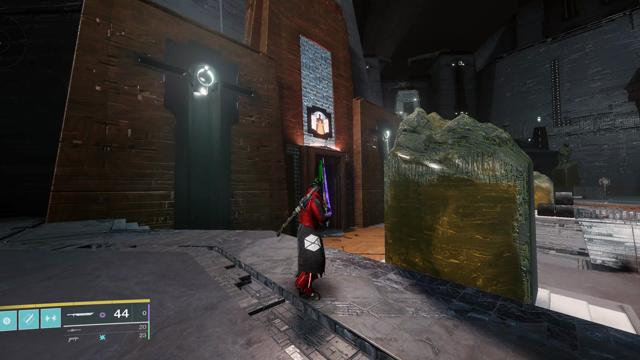worship: (311, 112, 329, 135)
